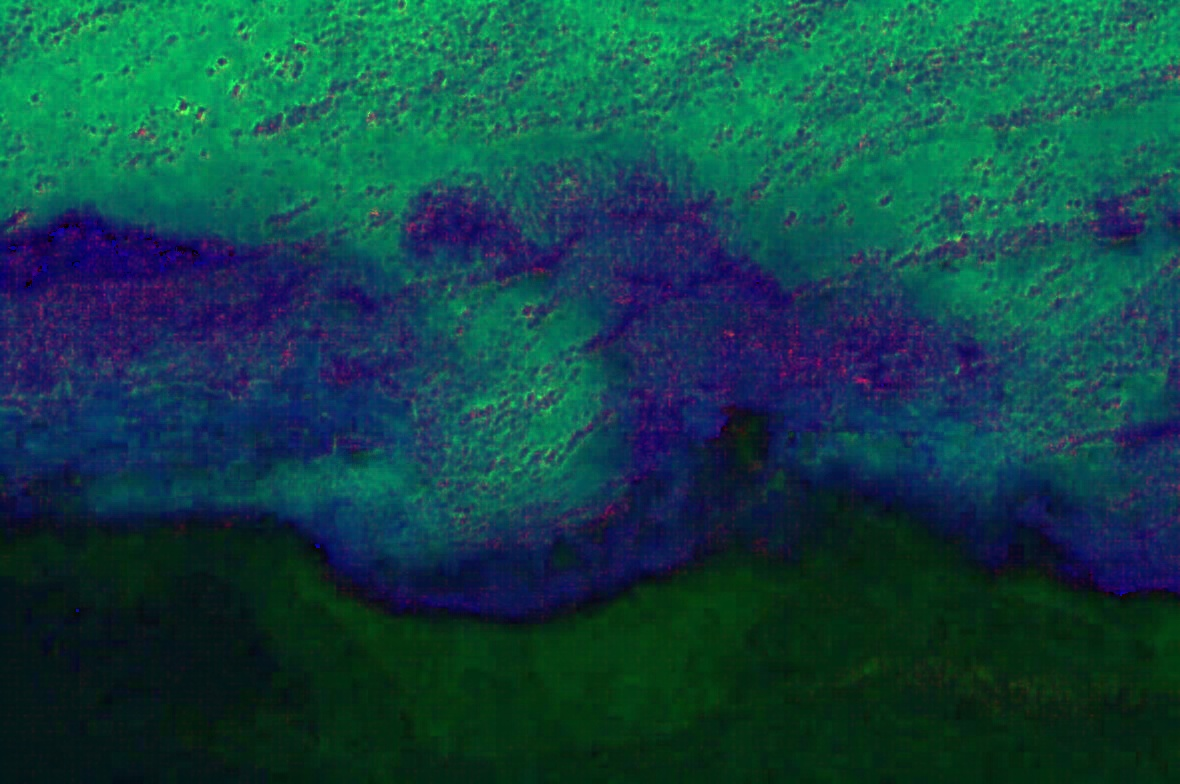rip_current: (276, 111, 645, 499)
